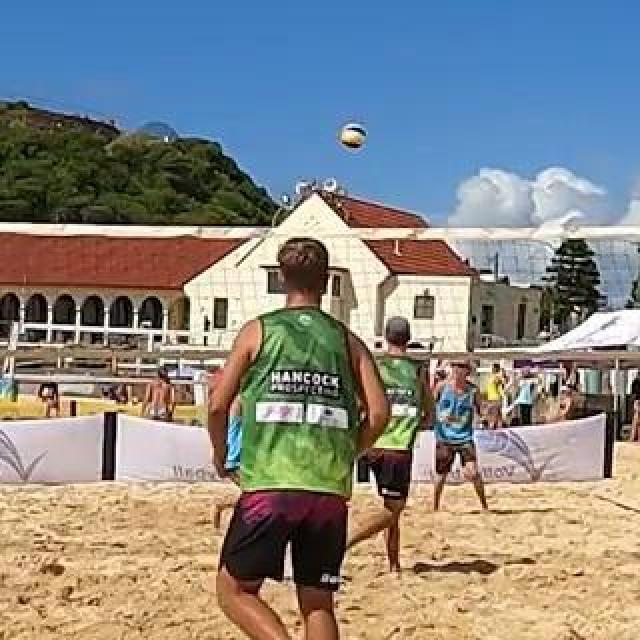volleyball: (338, 124, 366, 150)
